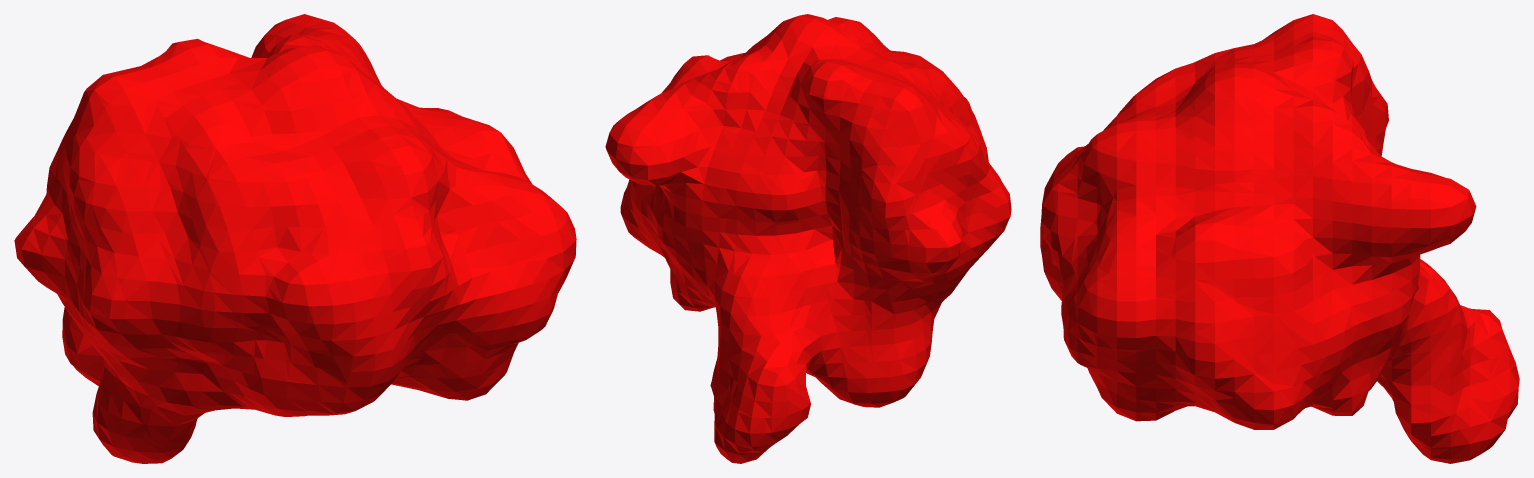
Rendered from paaJ_coarse.dae.
The picture shows the model from 3 angles, left to right: view 1: azimuth 30°, elevation 25°; view 2: azimuth 150°, elevation 25°; view 3: azimuth 270°, elevation 25°; orthographic projection. The views are drawn at different scales.
Visible parts, largest first — view 1: paaJ; view 2: paaJ; view 3: paaJ.
Boxes of the visible parts, left/top/right/bottom form: paaJ: left=14, top=14, right=576, bottom=463; paaJ: left=605, top=14, right=1011, bottom=463; paaJ: left=1040, top=14, right=1519, bottom=463.
Bounding box in the file's own units: 63.17 × 58.97 × 62.89.
